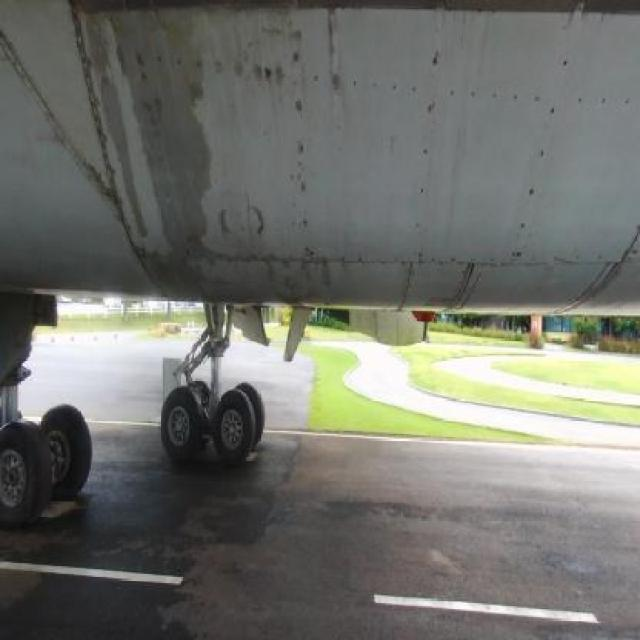Missing-Rivet: (173, 243, 410, 277), (136, 47, 290, 88), (323, 64, 428, 116), (294, 43, 318, 249), (326, 67, 346, 101)
Rust: (441, 76, 564, 116), (511, 132, 549, 254), (421, 248, 508, 289), (567, 72, 640, 119), (420, 55, 438, 242), (320, 1, 351, 51)
Scartch: (75, 2, 239, 310), (204, 188, 274, 254), (244, 58, 304, 94)
